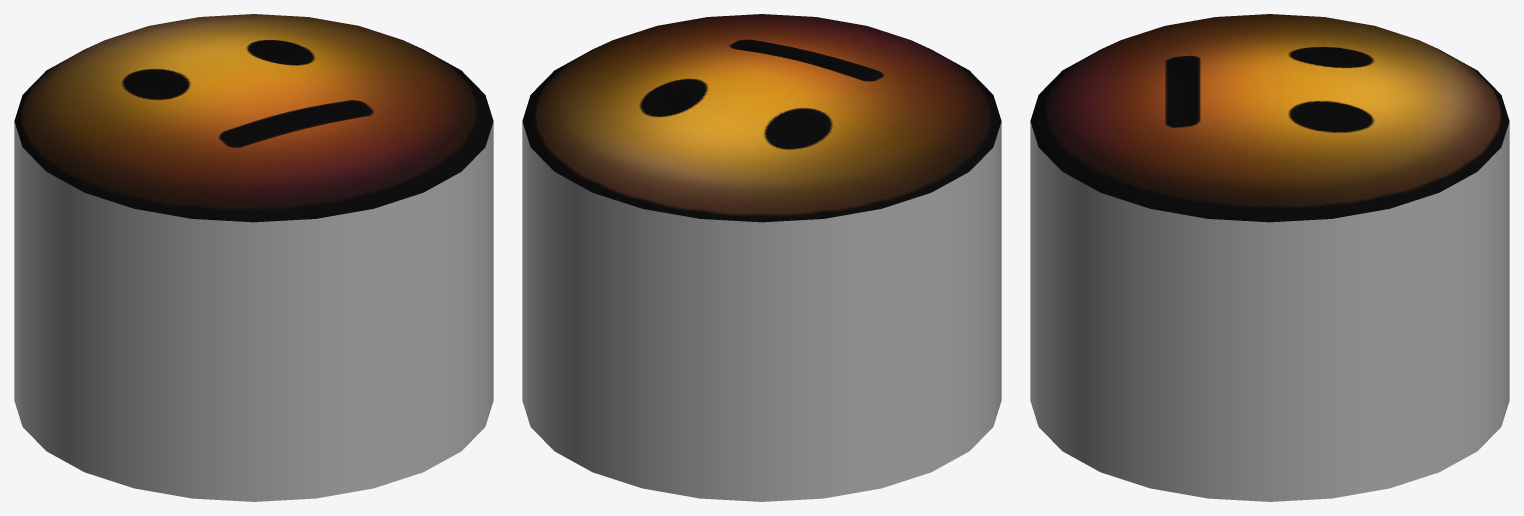
The model's file is button-2.fbx.
The picture shows the model from 3 angles, left to right: view 1: azimuth 30°, elevation 25°; view 2: azimuth 150°, elevation 25°; view 3: azimuth 270°, elevation 25°; orthographic projection.
Visible parts, largest first — view 1: Cylinder.008; view 2: Cylinder.008; view 3: Cylinder.008.
Part boxes in pixels (x1=…): Cylinder.008: x1=14, y1=14, x2=493, y2=501; Cylinder.008: x1=522, y1=14, x2=1001, y2=501; Cylinder.008: x1=1030, y1=14, x2=1509, y2=501.
Bounding box in the file's own units: 20.19 × 15.01 × 20.19.
Materials: 2 (1 with a texture image).
